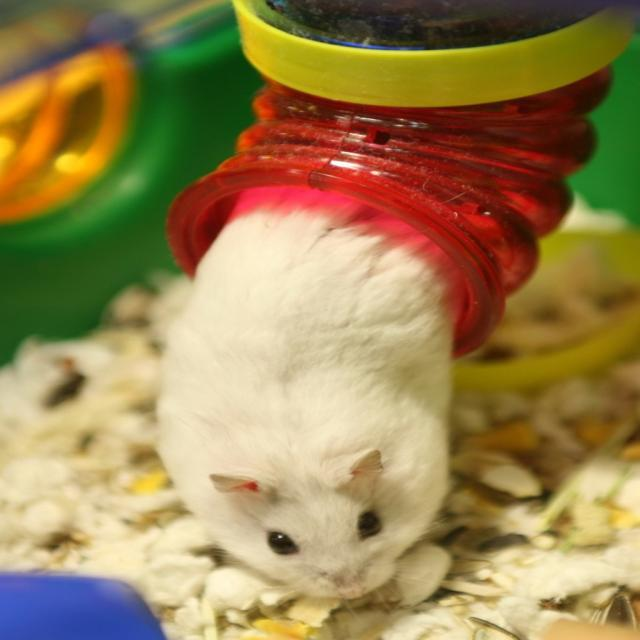rat: (150, 187, 450, 596)
